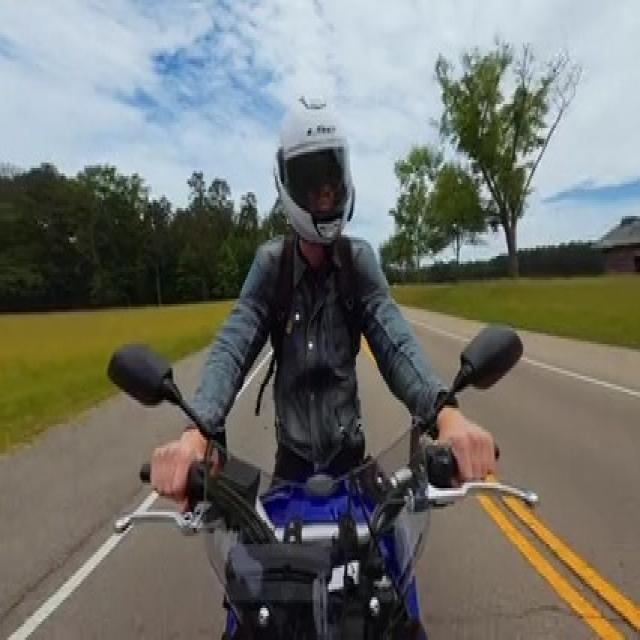Helmet_Wearer: (264, 79, 366, 246)
Person: (162, 83, 502, 530)
